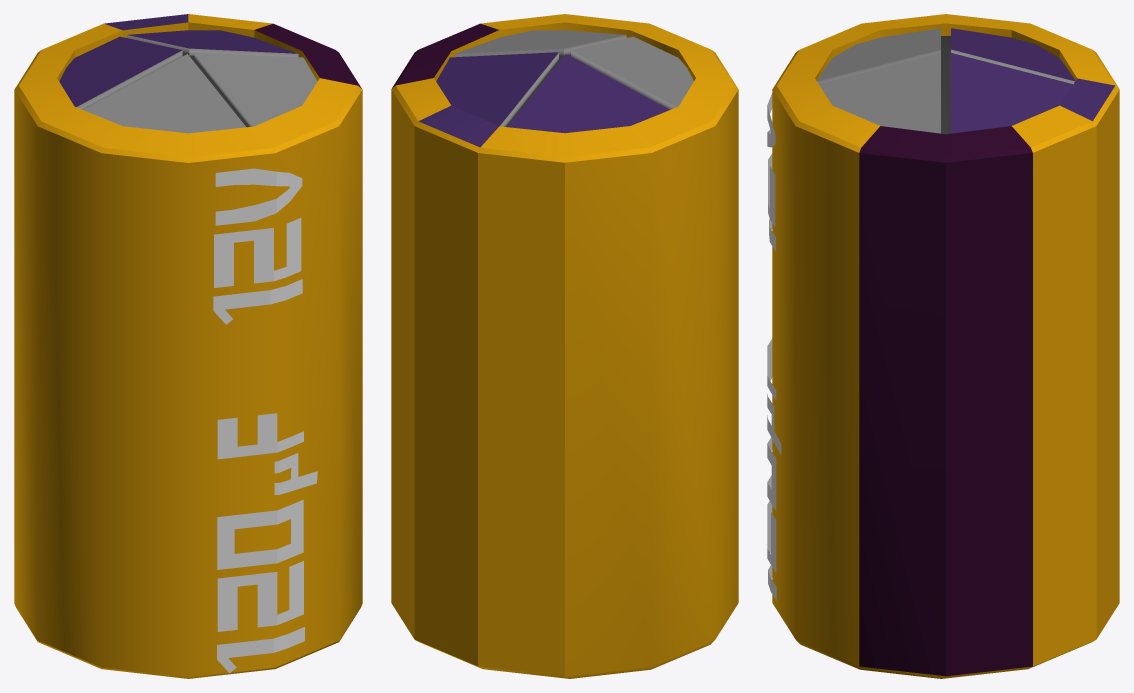
File: zepsuty_kondensator_zolty.fbx
3 renders of one model, left to right at view 1: azimuth 30°, elevation 25°; view 2: azimuth 150°, elevation 25°; view 3: azimuth 270°, elevation 25°, orthographic.
Parts seen in each view (by area): view 1: zepsuty_kondensator_zolty; view 2: zepsuty_kondensator_zolty; view 3: zepsuty_kondensator_zolty.
Part boxes in pixels (<box>): zepsuty_kondensator_zolty: <box>14,14,362,678</box>; zepsuty_kondensator_zolty: <box>391,14,738,678</box>; zepsuty_kondensator_zolty: <box>767,14,1119,678</box>.
Bounding box in the file's own units: 200 × 353 × 203.
